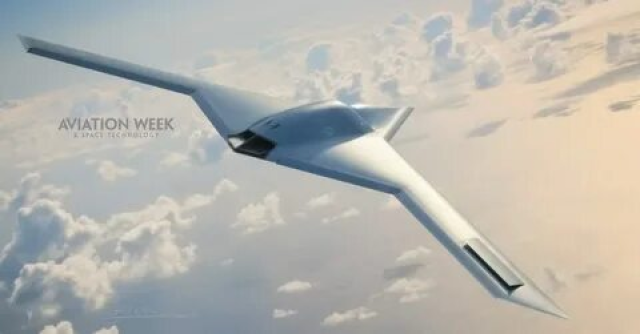military drone: (16, 32, 570, 320)
